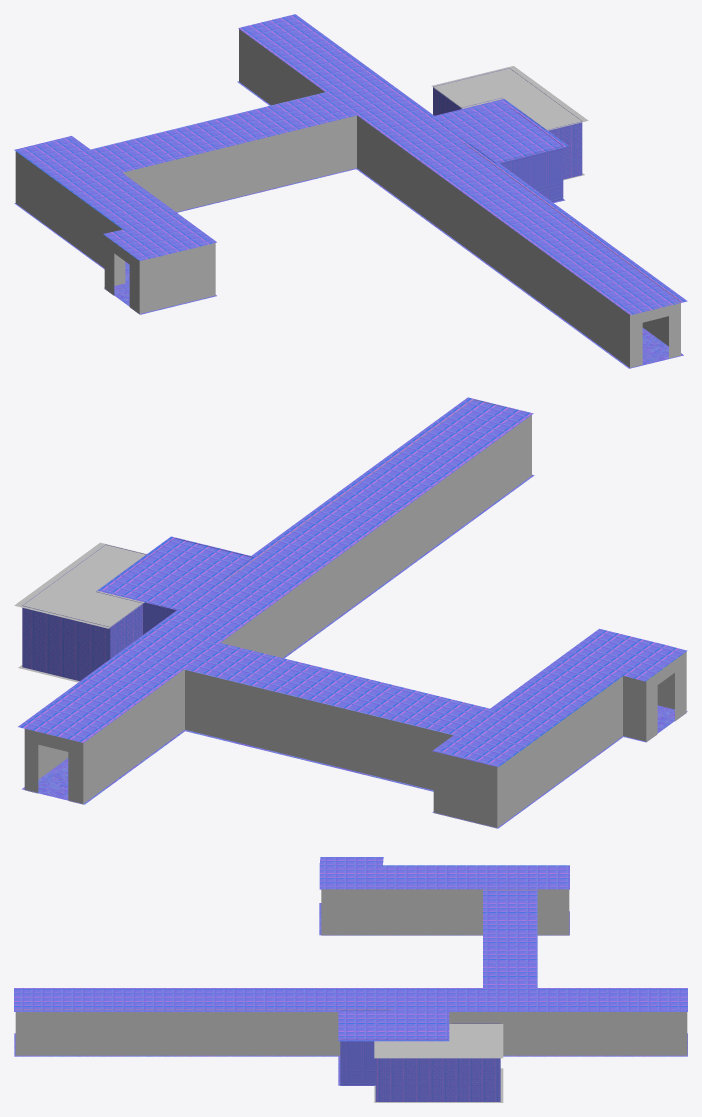
The model's file is room1.obj.
3 views of the same model, one above another, from view 1: azimuth 30°, elevation 25°; view 2: azimuth 150°, elevation 25°; view 3: azimuth 270°, elevation 25° (orthographic). The views are drawn at different scales.
Visible parts, largest first — view 1: Cube; view 2: Cube; view 3: Cube.
Part boxes in pixels (x1,y1,x2,y2): Cube: (14,14,687,368); Cube: (14,397,687,828); Cube: (14,857,687,1102).
Size of the model in its own units: 28.23 by 3.06 by 39.93.
